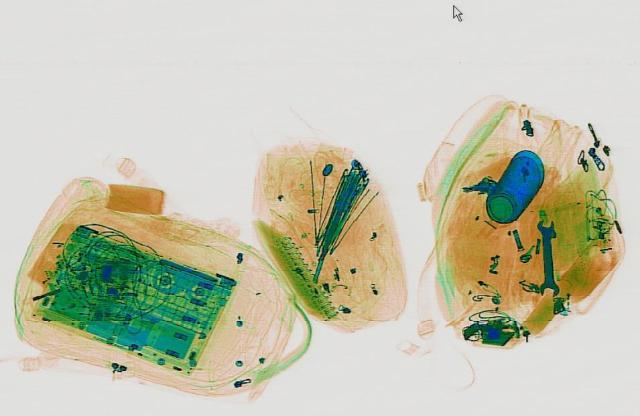Wrench: (534, 219, 560, 295)
